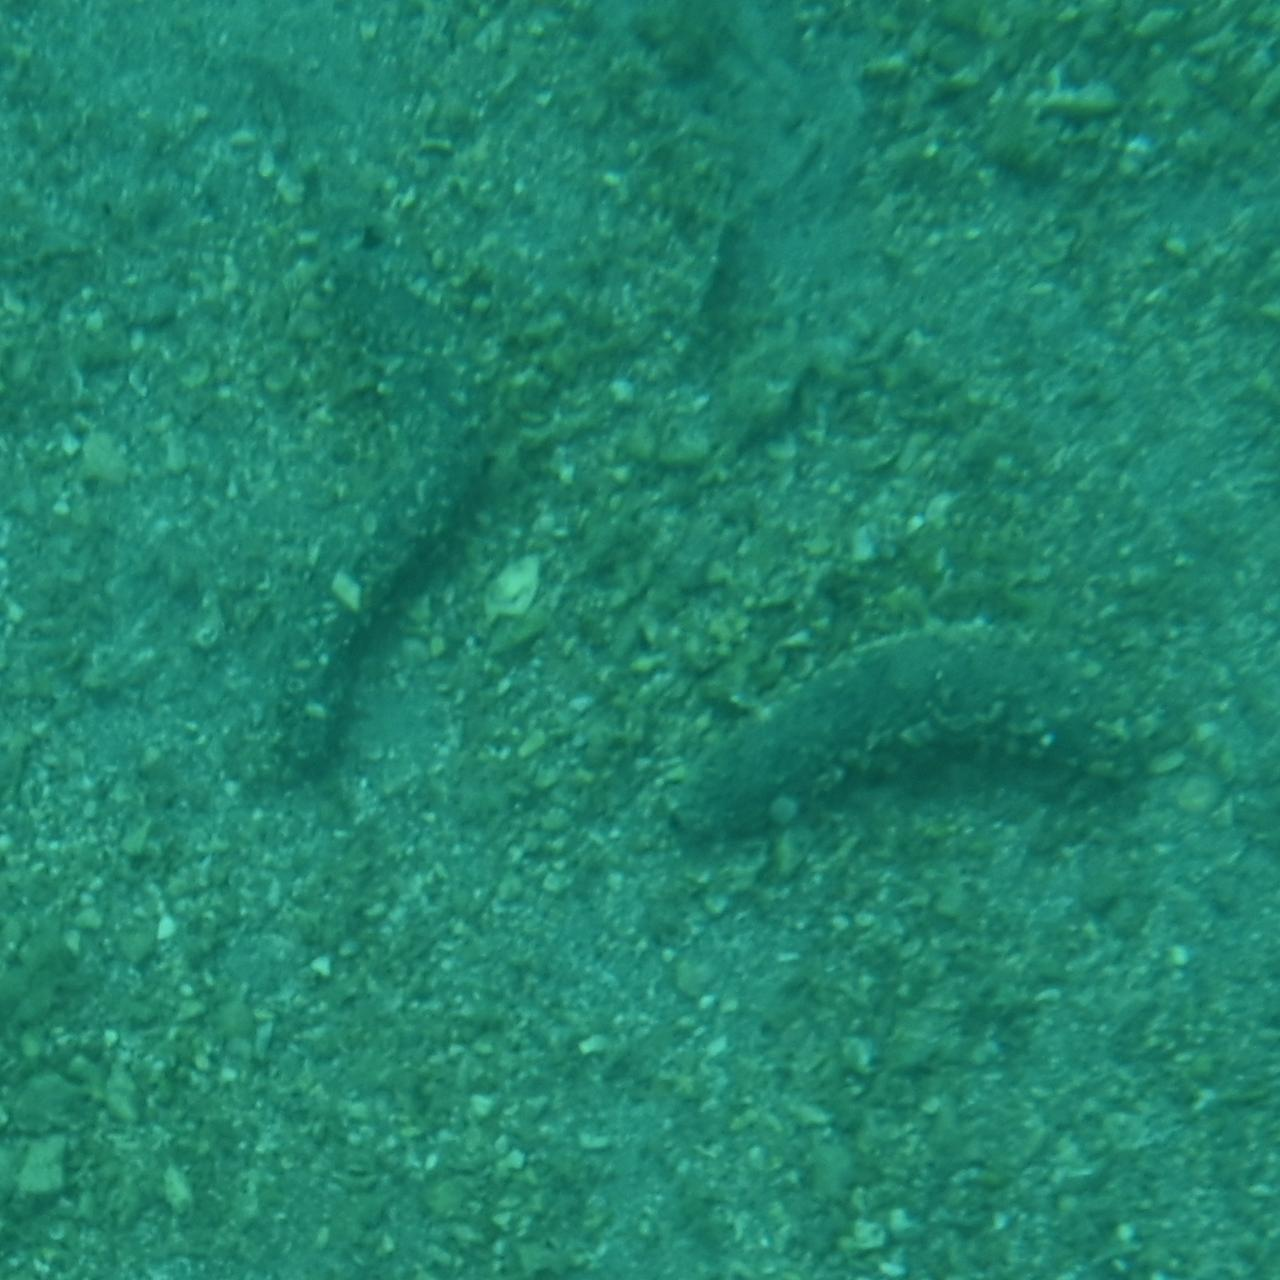Holothuria tubulosa: (230, 275, 489, 804), (670, 647, 1171, 835)
